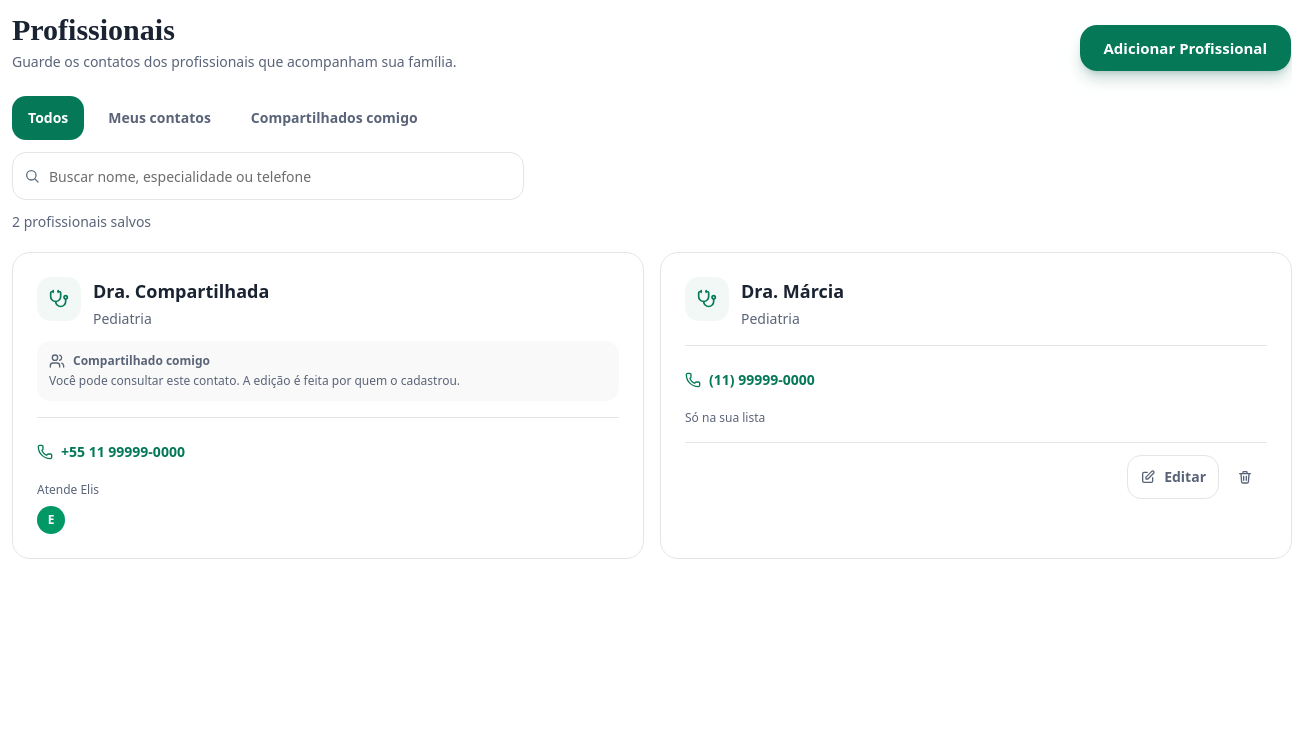
searches without accents, normalizes phone punctuation and filters shared contacts
Type "nao existe" into the search field at (268, 176), box top-left (12, 152), bottom-right (524, 200)
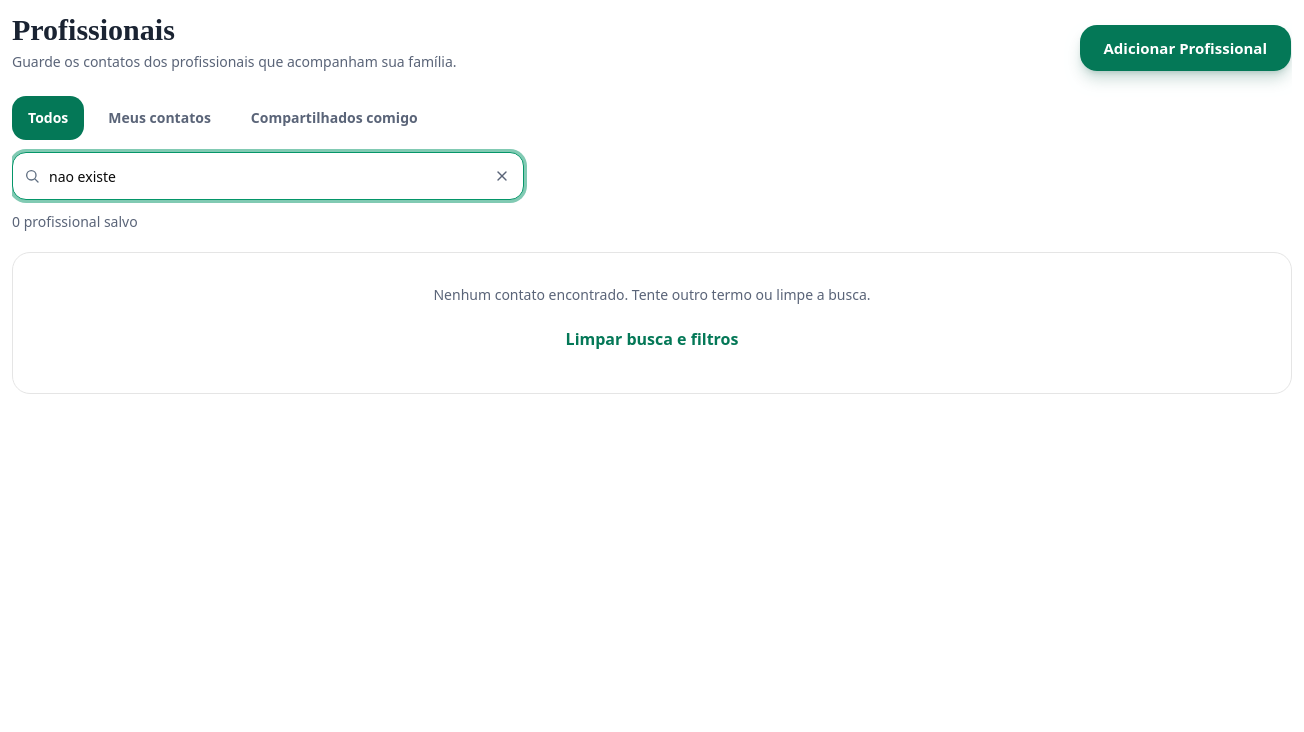
Expected: the text "Nenhum contato encontrado" is shown, top-left (434, 285), bottom-right (871, 304)
Replace the text in the search field with "marcia" at (268, 176), box top-left (12, 152), bottom-right (524, 200)
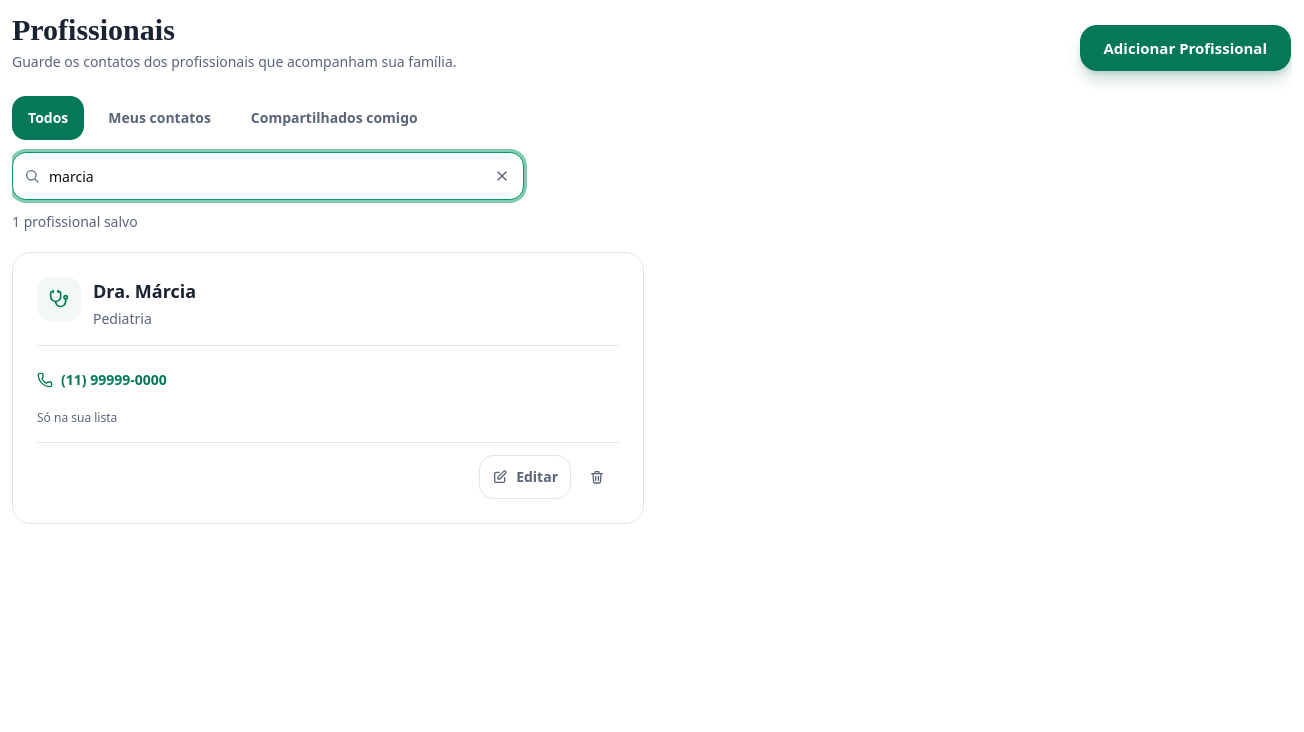
Expected: the heading "Dra. Compartilhada" is not shown
Expected: the heading "Dra. Márcia" is shown, top-left (93, 277), bottom-right (196, 305)
Replace the text in the search field with "11999990000" at (268, 176), box top-left (12, 152), bottom-right (524, 200)
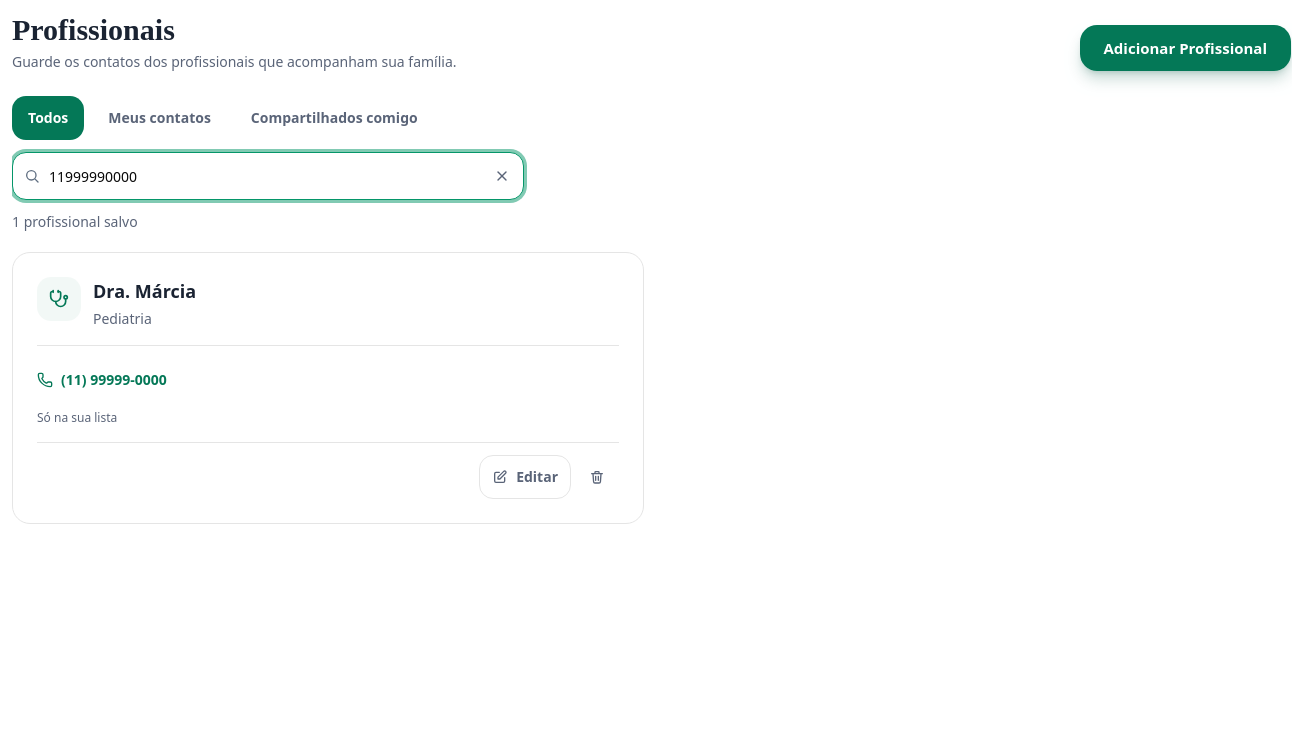
Expected: the heading "Dra. Márcia" is shown, top-left (93, 277), bottom-right (196, 305)
Click the button named "Limpar busca" at (502, 176), box top-left (480, 154), bottom-right (524, 198)
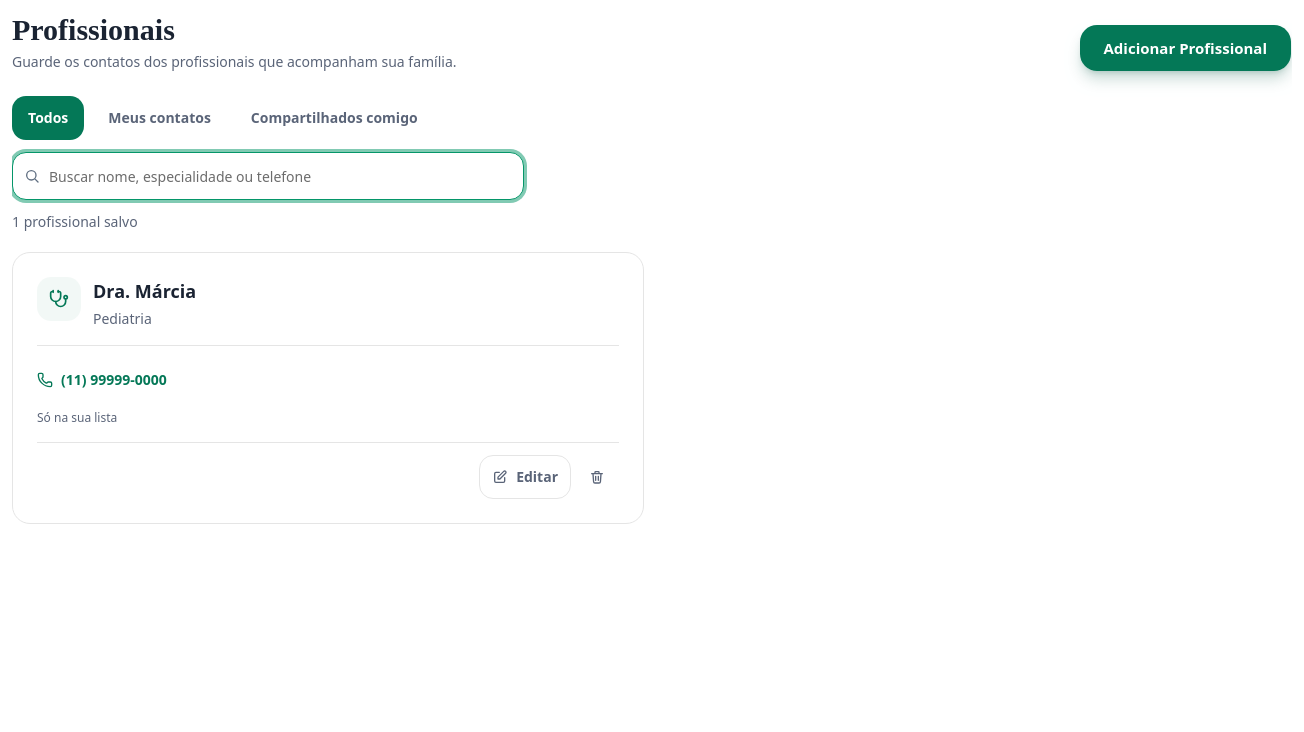
Click the button "Compartilhados comigo" at (334, 118), box top-left (235, 96), bottom-right (434, 140)
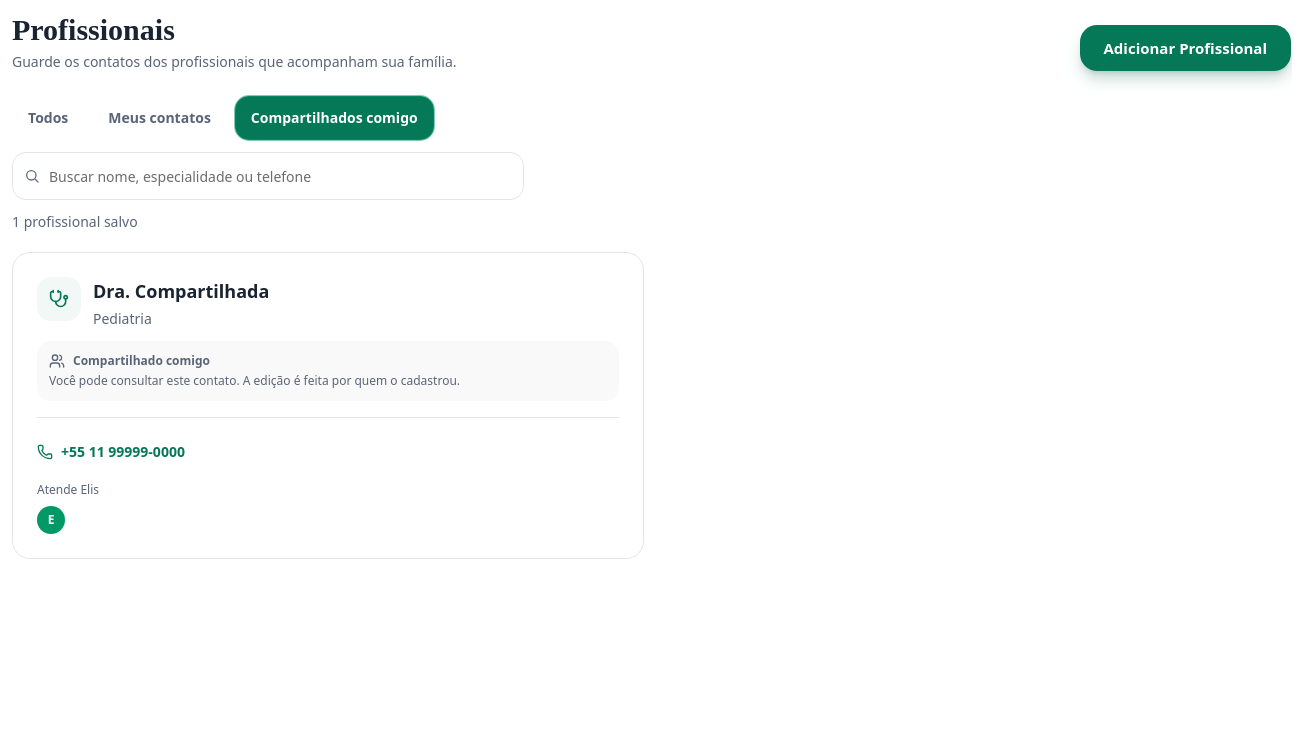
Expected: the heading "Dra. Compartilhada" is shown, top-left (93, 277), bottom-right (269, 305)
Expected: the heading "Dra. Márcia" is gone
Expected: the text "Você pode consultar este contato. A edição é feita por quem o cadastrou." is shown, top-left (49, 372), bottom-right (460, 389)
